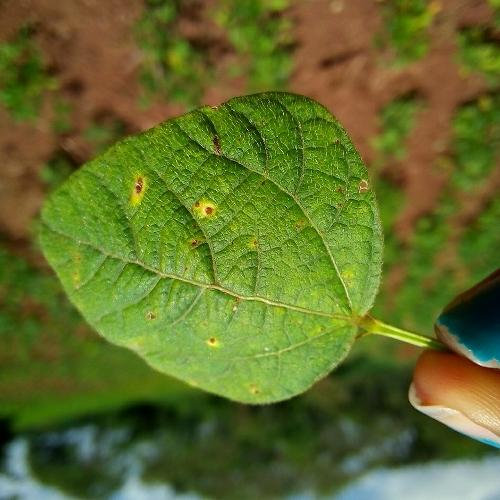hawar: (181, 192, 226, 250), (126, 164, 151, 200)
mozaik: (254, 66, 384, 375)
